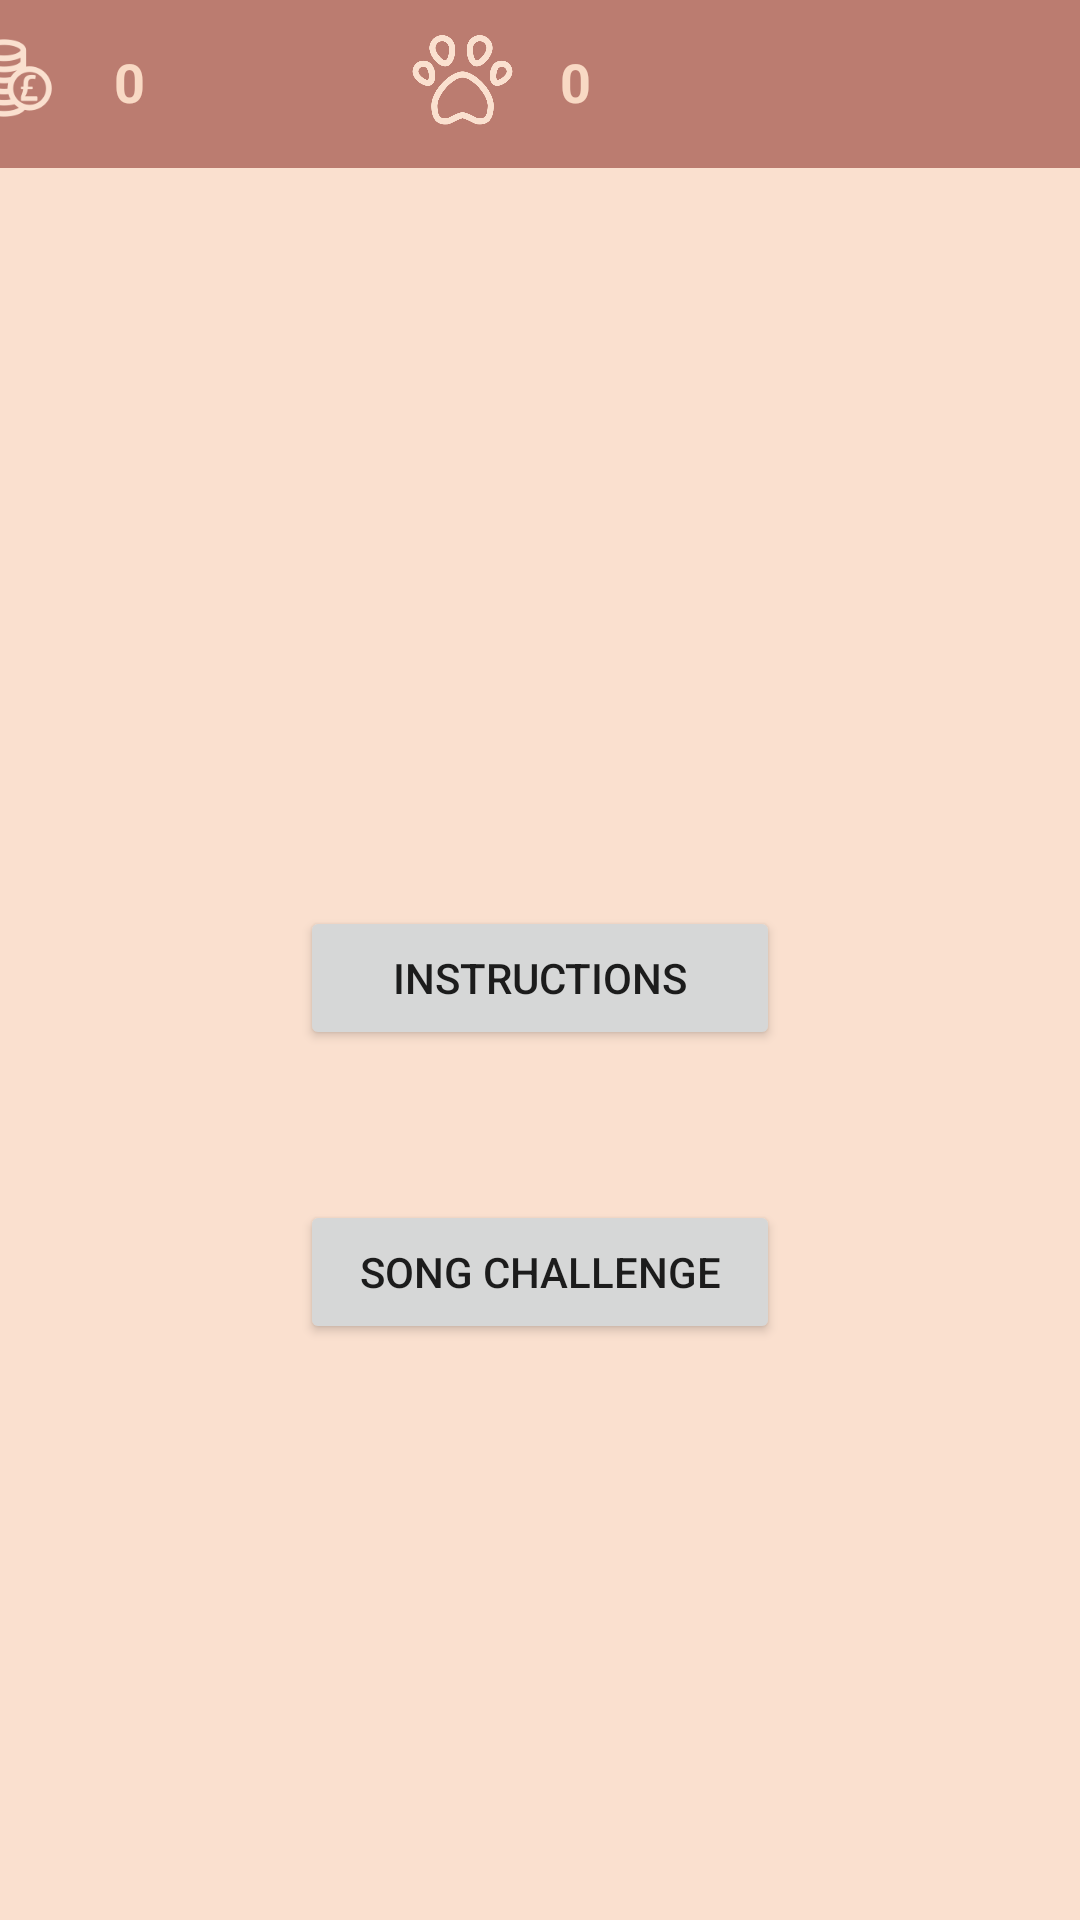

Locate icon controls on the screen. Image size 1080 x 1920, boxes as (x1, y1, x2, y2).
pet: (412, 35, 513, 125)
